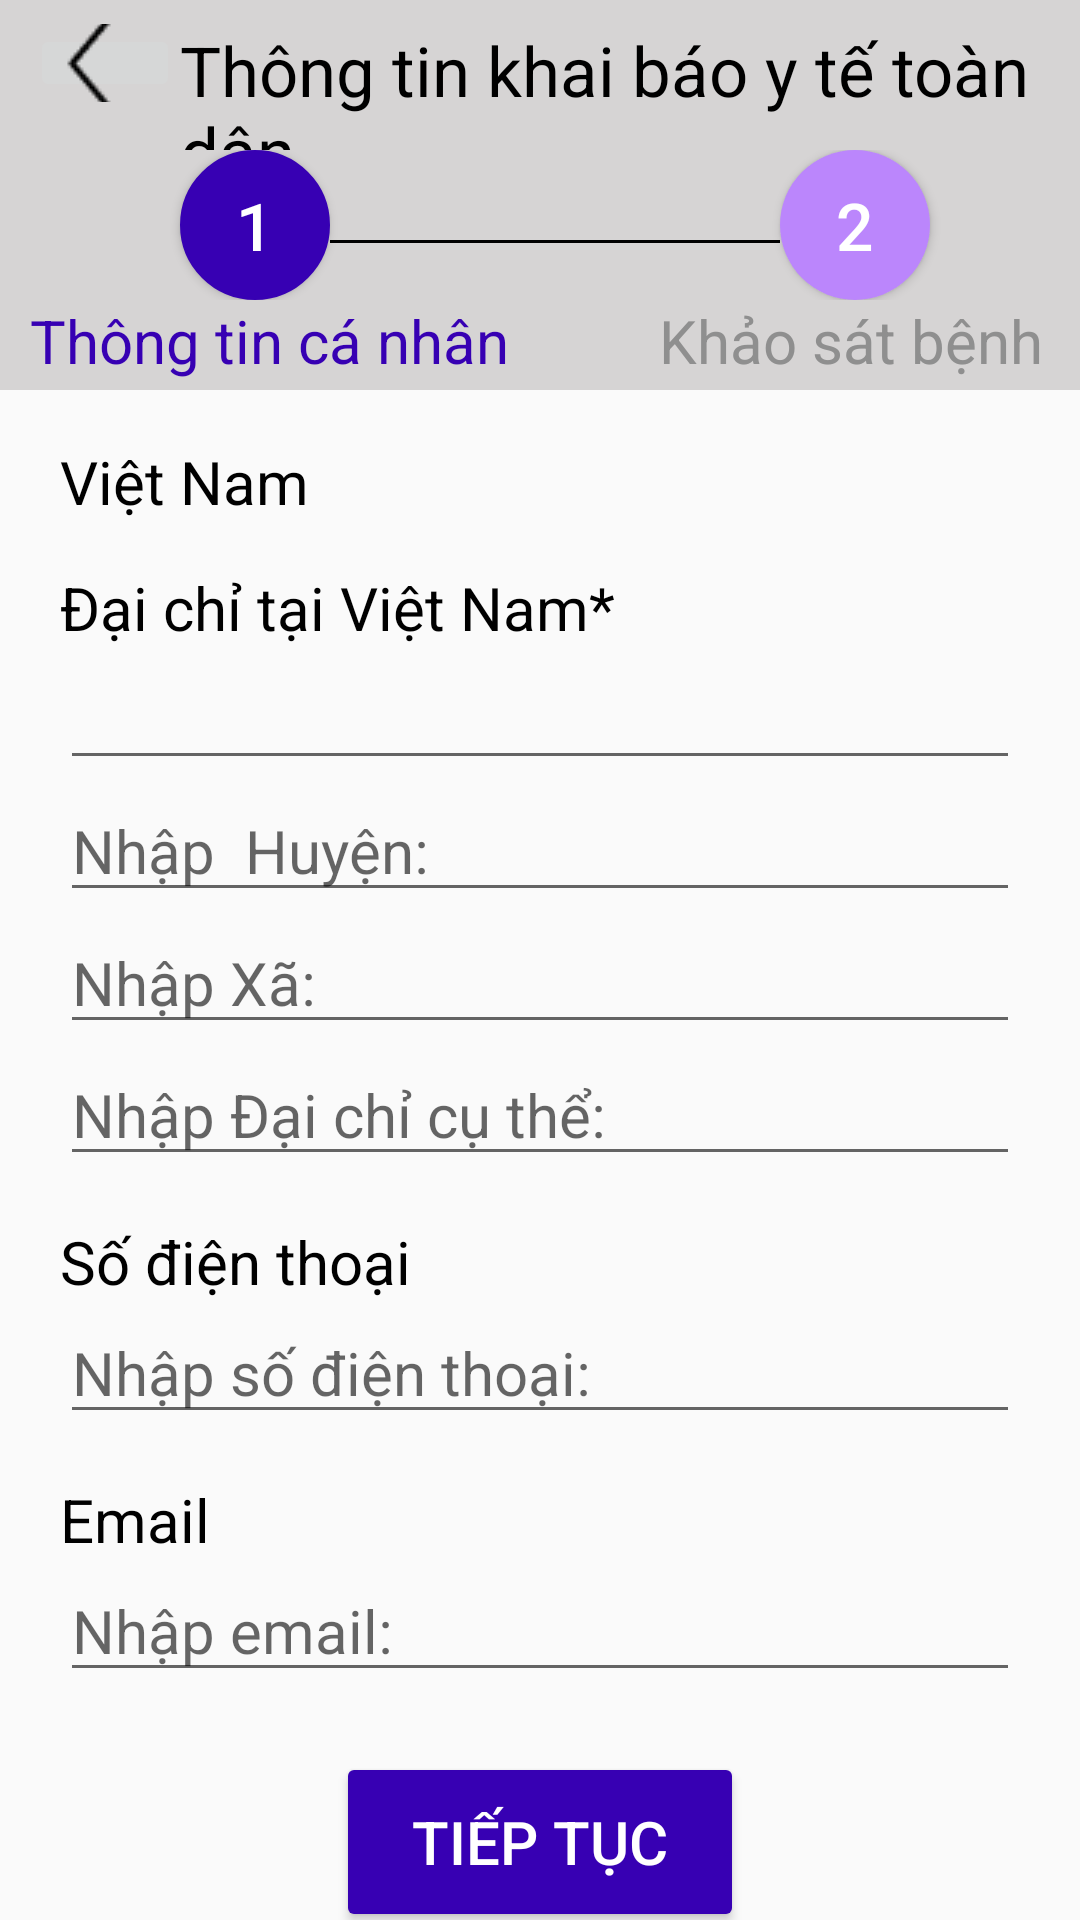

Point at icon controls on the screen. Image size 1080 x 1920, points as point (x, y).
back: point (89, 63)
